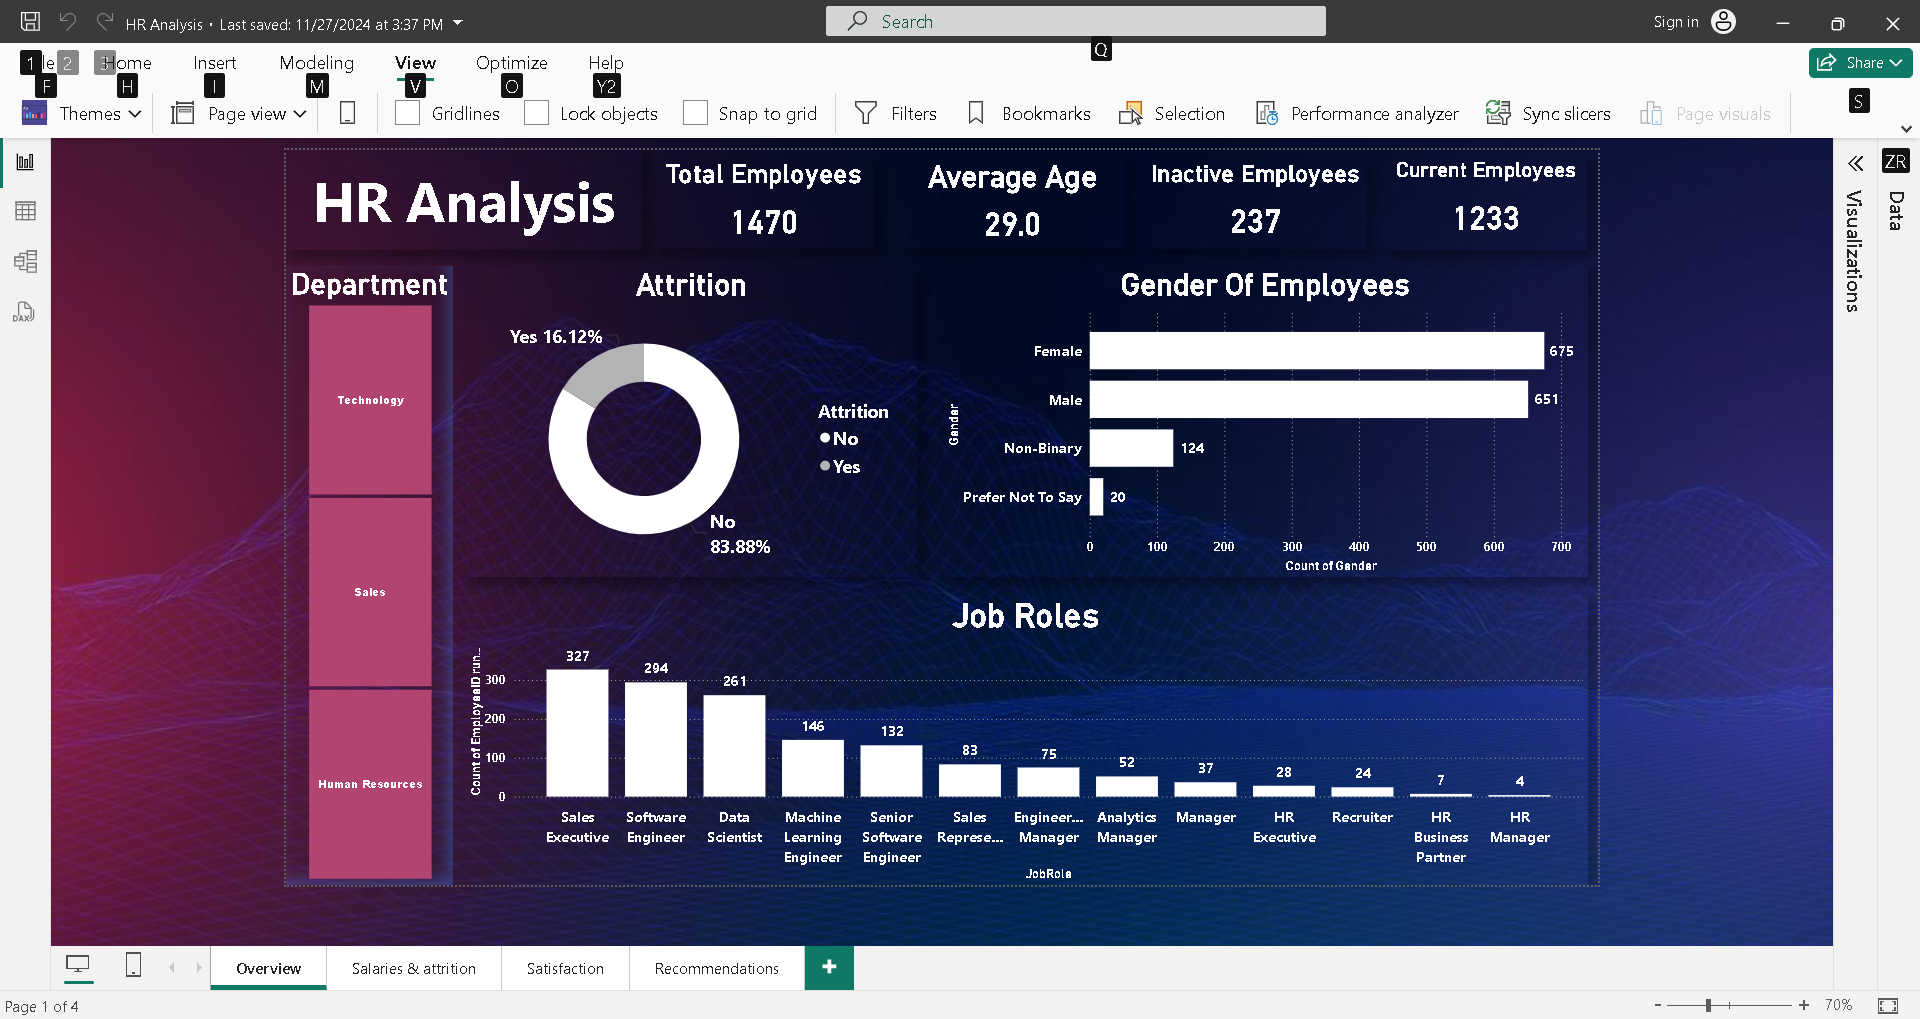

The page's visual inventory and layout, read from the dashboard file:
{"tool":"powerbi","page":{"name":"Overview","canvas":[1500,840],"ordinal":0},"visuals":[{"type":"shape","box":[0,0,407.1,114.3],"z":0},{"type":"card","title":"Total Employees","fields":{"Values":["CountNonNull(Employee.EmployeeID)"]},"box":[421.4,10.1,250.1,102.7],"z":1000,"group":"g2"},{"type":"barChart","title":"Gender Of Employees","fields":{"Category":["Employee.Gender"],"Y":["CountNonNull(Employee.Gender)"]},"box":[750,133.3,738.3,355],"z":1000},{"type":"card","title":"Average Age ","fields":{"Values":["Avg(Employee.Age)"]},"box":[701.6,10.1,257.3,102.7],"z":2000,"group":"g2"},{"type":"donutChart","title":" Attrition","fields":{"Category":["Employee.Attrition"],"Y":["CountNonNull(Employee.Attrition)"]},"box":[205,133.3,515,355],"z":2000},{"type":"card","title":"Inactive Employees","fields":{"Values":["Employee.InactiveEmployees"]},"box":[979.6,10.8,255.9,101.2],"z":3000,"group":"g2"},{"type":"clusteredColumnChart","title":"Job Roles","fields":{"Y":["Employee.Count of EmployeeID running total in EmployeeID"],"Category":["Employee.JobRole"]},"box":[204.3,508.6,1282.9,331.4],"z":3000},{"type":"card","title":"Current Employees","fields":{"Values":["Employee.CurrentEmployees"]},"box":[1255.6,8.6,231.6,105.7],"z":4000,"group":"g2"},{"type":"slicer","title":"Department","fields":{"Values":["Employee.Department"]},"box":[0,132.9,190,707.1],"z":4000},{"type":"group","id":"g1","title":"Group 1","box":[421.4,8.6,1065.7,105.7],"z":5000},{"type":"group","id":"g2","title":"Group 2","box":[421.4,8.6,1065.7,105.7],"z":5001,"group":"g1"}]}

Visuals, with their boxes on the page's 1500x840 design canvas (x1, y1, x2, y2). These are canvas units, not pixel positions in the 1920x1019 screenshot, which may show the page scaled, cropped or inside an application window:
shape: l=0, t=0, r=407, b=114
"Total Employees" card: l=421, t=10, r=672, b=113
"Gender Of Employees" barChart: l=750, t=133, r=1488, b=488
"Average Age " card: l=702, t=10, r=959, b=113
" Attrition" donutChart: l=205, t=133, r=720, b=488
"Inactive Employees" card: l=980, t=11, r=1236, b=112
"Job Roles" clusteredColumnChart: l=204, t=509, r=1487, b=840
"Current Employees" card: l=1256, t=9, r=1487, b=114
"Department" slicer: l=0, t=133, r=190, b=840
"Group 1" group: l=421, t=9, r=1487, b=114
"Group 2" group: l=421, t=9, r=1487, b=114
